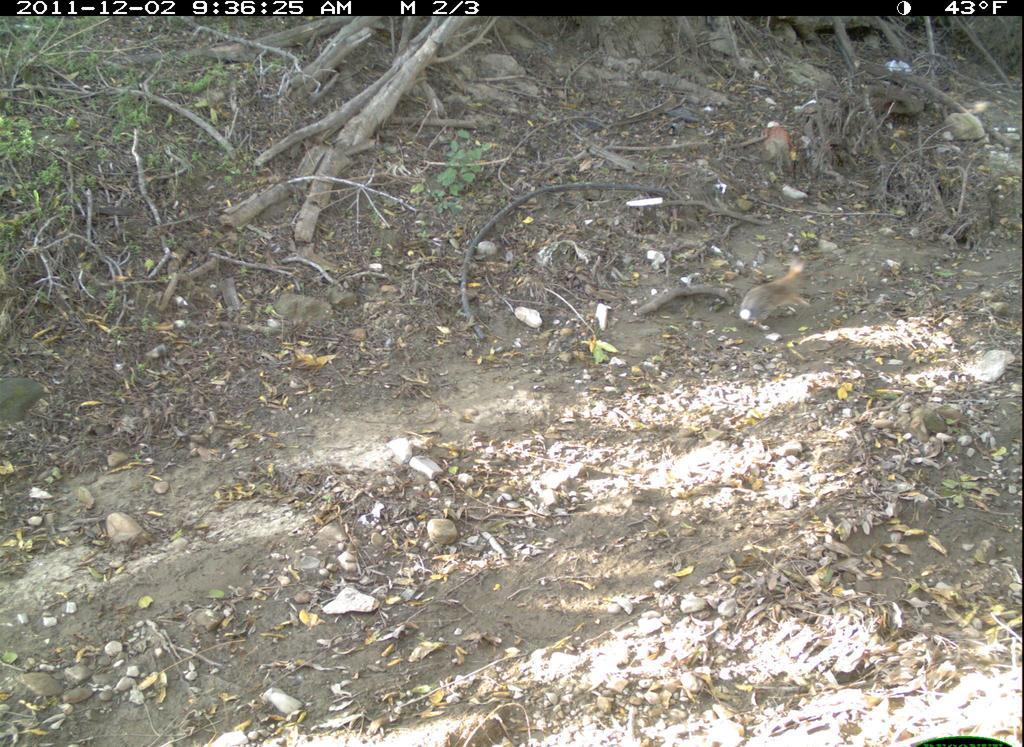rabbit: (737, 255, 816, 334)
